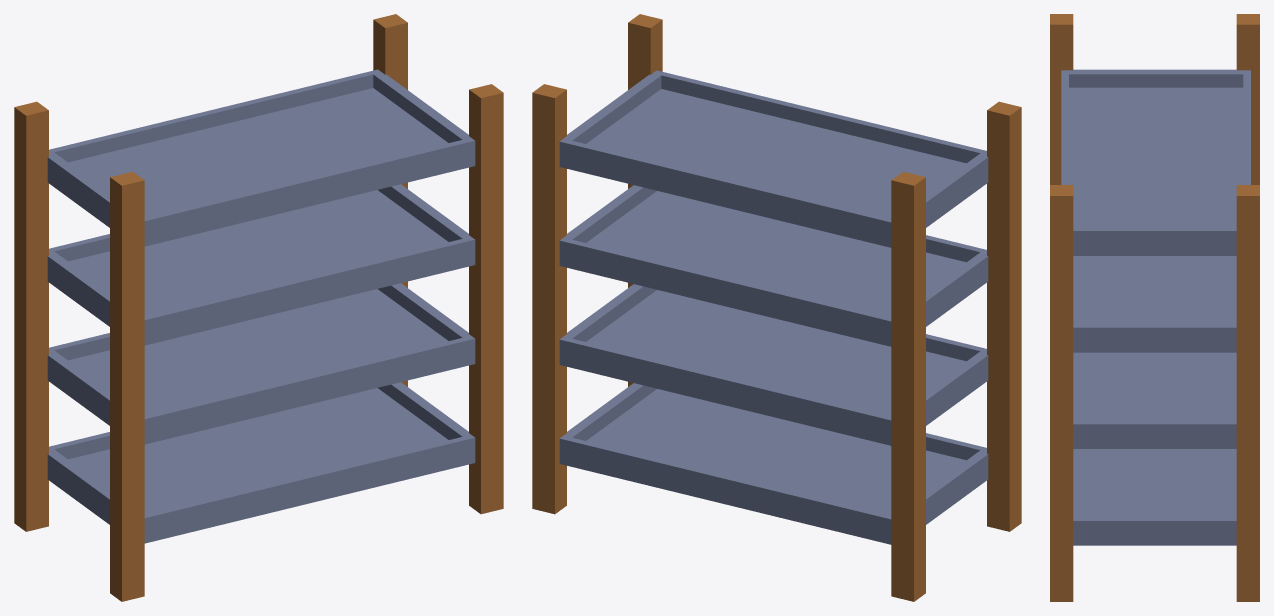
Rendered from SM_shelf_01.fbx.
3 renders of one model, left to right at view 1: azimuth 30°, elevation 25°; view 2: azimuth 150°, elevation 25°; view 3: azimuth 270°, elevation 25°, orthographic. The views are drawn at different scales.
Parts seen in each view (by area): view 1: SM_Shelf_01, SM_Shelf_support_01; view 2: SM_Shelf_01, SM_Shelf_support_01; view 3: SM_Shelf_01, SM_Shelf_support_01.
Part boxes in pixels (x1,y1,x2,y2): SM_Shelf_01: (47, 69, 475, 543); SM_Shelf_support_01: (14, 14, 503, 601); SM_Shelf_01: (559, 70, 988, 544); SM_Shelf_support_01: (532, 14, 1021, 601); SM_Shelf_01: (1061, 69, 1250, 545); SM_Shelf_support_01: (1050, 14, 1259, 601).
Bounding box in the file's own units: 235 × 245 × 115.
